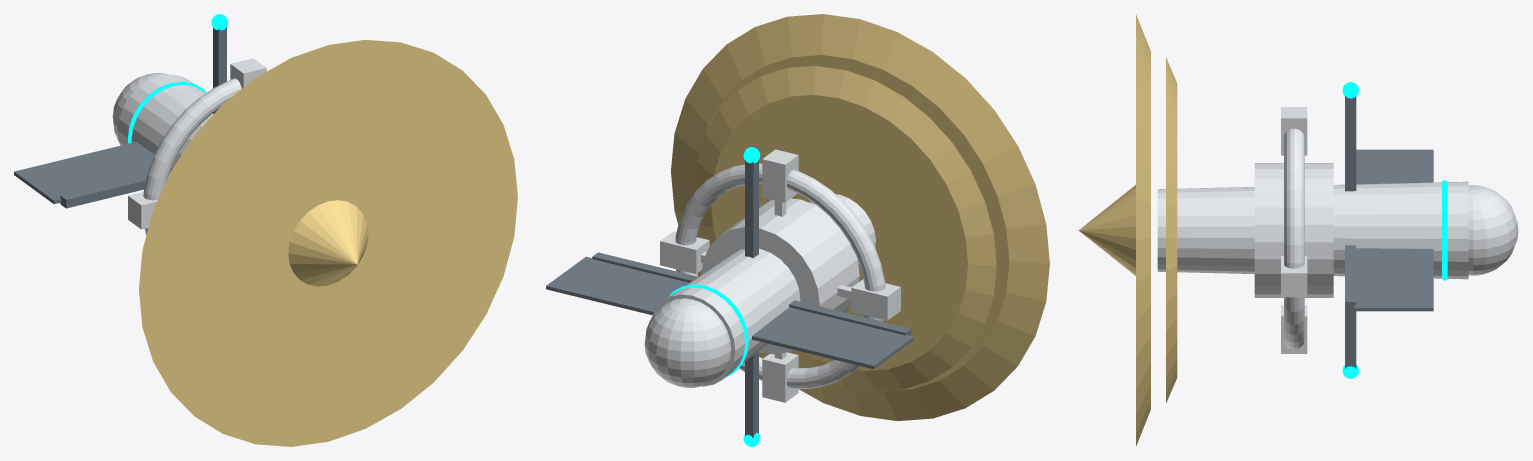
Rendered from mercury-shield-station.glb.
3 renders of one model, left to right at view 1: azimuth 30°, elevation 25°; view 2: azimuth 150°, elevation 25°; view 3: azimuth 270°, elevation 25°, orthographic.
Visible parts, largest first — view 1: station_body, rotor_ring; view 2: station_body, rotor_ring; view 3: station_body, rotor_ring.
Part boxes in pixels (bbox=[...]): station_body: bbox=[14, 14, 517, 446]; rotor_ring: bbox=[128, 58, 266, 235]; station_body: bbox=[546, 14, 1049, 446]; rotor_ring: bbox=[660, 149, 900, 402]; station_body: bbox=[1078, 14, 1518, 446]; rotor_ring: bbox=[1281, 107, 1307, 353].
Bounding box in the file's own units: 2.3 × 2.3 × 2.33.
